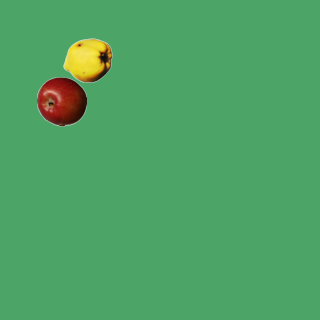Apple Braeburn: (36, 76, 86, 126)
Quince: (62, 35, 112, 85)
